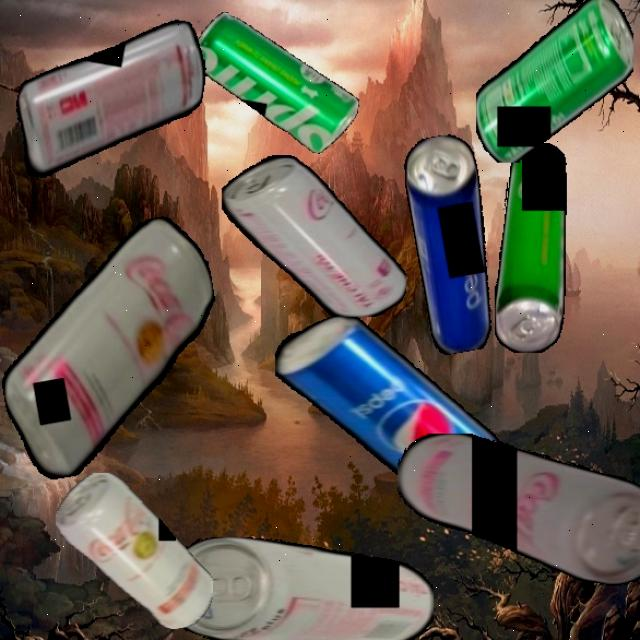debris: (0, 211, 240, 485), (6, 0, 214, 202), (274, 316, 503, 494), (396, 434, 640, 586), (221, 155, 406, 317), (182, 9, 370, 158), (167, 536, 434, 640), (475, 0, 634, 163), (398, 131, 508, 356), (55, 473, 213, 629), (494, 142, 568, 353)
